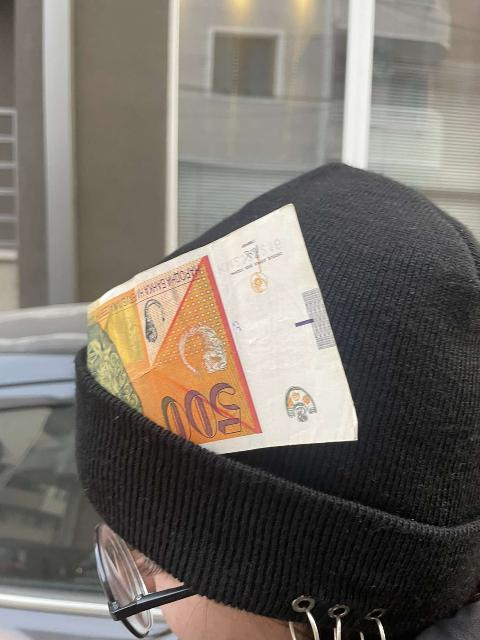500_note: (88, 205, 356, 452)
